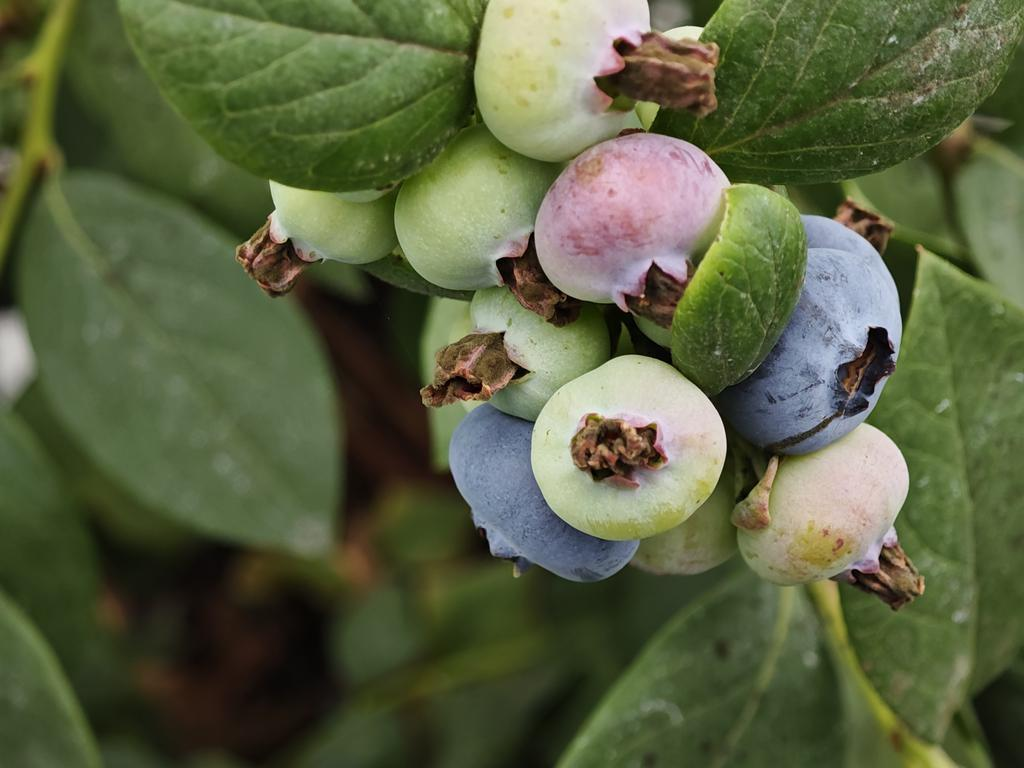RipeBlueBerry: (730, 210, 907, 455)
Semi-RipeBlueBerry: (533, 129, 733, 312)
UnripeBlueBerry: (529, 350, 731, 543)
